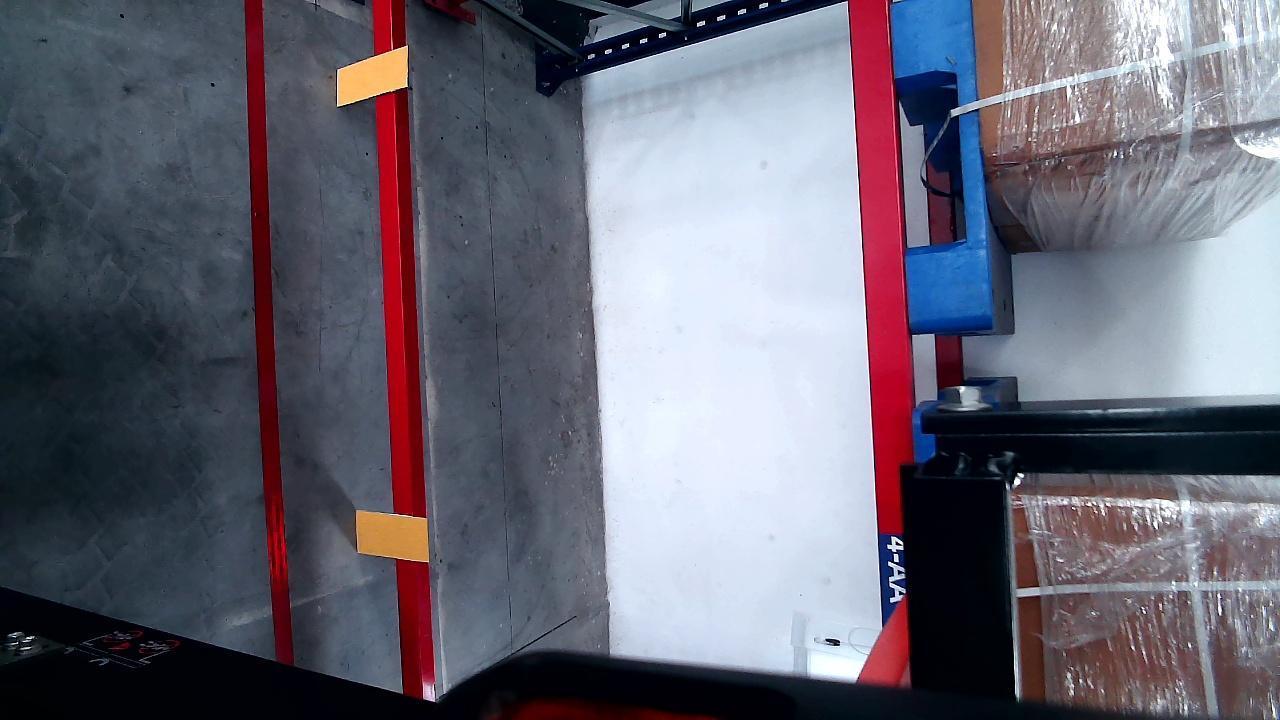red_line: (242, 0, 292, 685)
